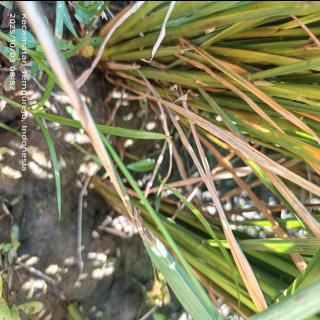Busuk-Pelepah: (52, 53, 86, 126), (126, 203, 160, 246)
